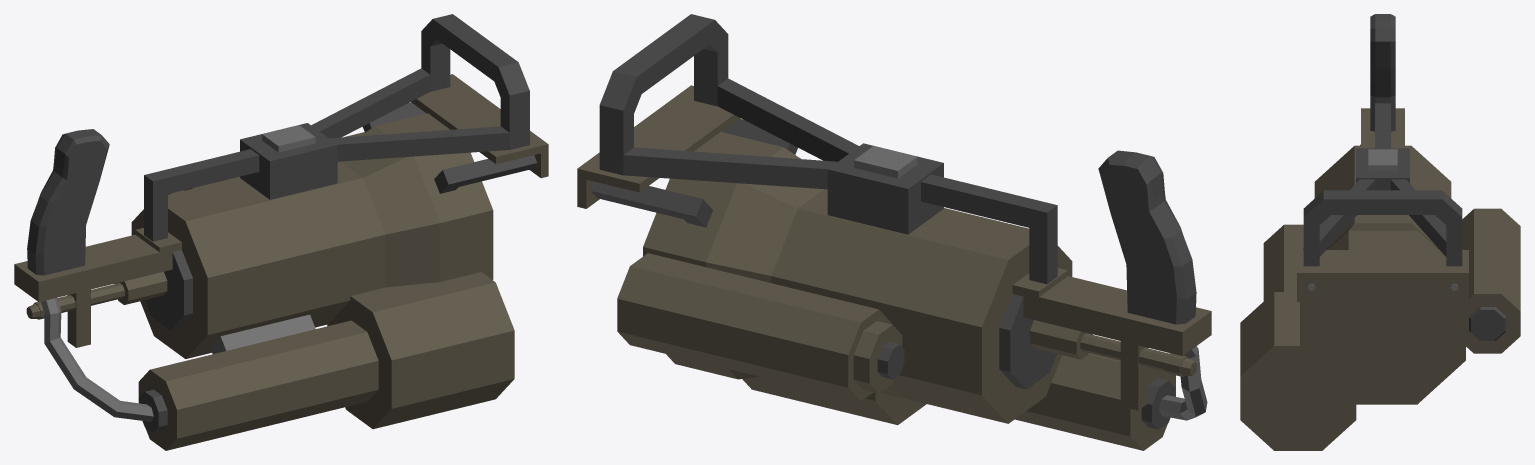
Rendered from LMG1_04.fbx.
3 renders of one model, left to right at view 1: azimuth 30°, elevation 25°; view 2: azimuth 150°, elevation 25°; view 3: azimuth 270°, elevation 25°, orthographic. The views are drawn at different scales.
Visible parts, largest first — view 1: LMG1_04; view 2: LMG1_04; view 3: LMG1_04.
Part boxes in pixels (<box>): LMG1_04: <box>14,14,548,450</box>; LMG1_04: <box>577,14,1211,450</box>; LMG1_04: <box>1240,14,1520,450</box>.
Bounding box in the file's own units: 0.6461 × 0.3998 × 0.3673.
